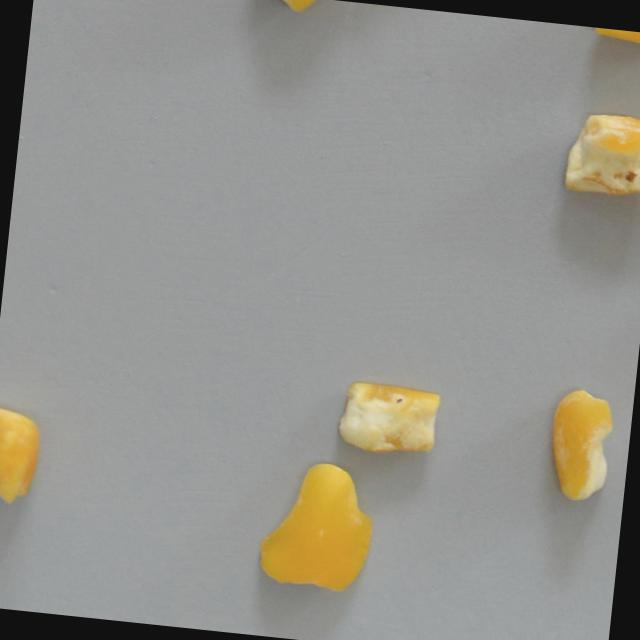dañado: (251, 450, 386, 600), (330, 377, 454, 464), (539, 383, 624, 509), (556, 105, 640, 203), (0, 400, 50, 510), (246, 0, 352, 23)
estandar: (588, 27, 640, 48)
